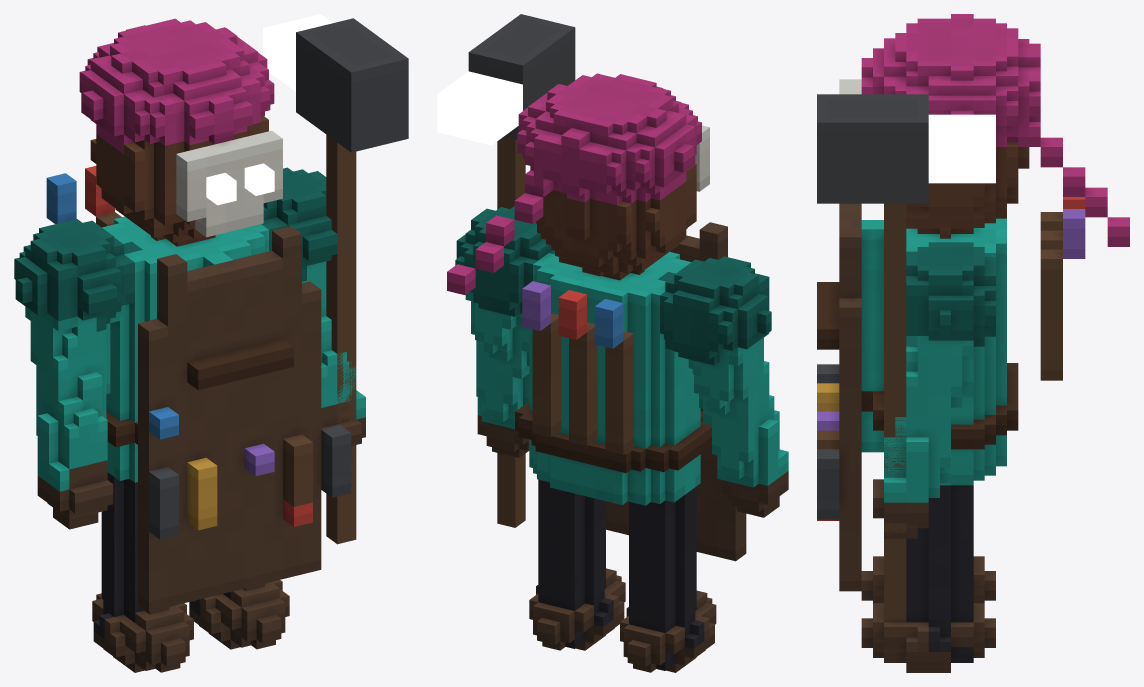
File: u_artificier__tidiane.glb
The picture shows the model from 3 angles, left to right: view 1: azimuth 30°, elevation 25°; view 2: azimuth 150°, elevation 25°; view 3: azimuth 270°, elevation 25°; orthographic projection. The views are drawn at different scales.
Visible parts, largest first — view 1: artificier_body, artificier_weapon, artificier_weaponglow, artificier_glow; view 2: artificier_body, artificier_weapon, artificier_weaponglow; view 3: artificier_body, artificier_weapon, artificier_weaponglow.
Boxes of the visible parts, x1,y1,x2,y2 form: artificier_body: [14, 18, 365, 672]; artificier_weapon: [296, 18, 408, 544]; artificier_weaponglow: [263, 14, 332, 91]; artificier_glow: [206, 163, 274, 205]; artificier_body: [447, 73, 788, 672]; artificier_weapon: [468, 14, 575, 527]; artificier_weaponglow: [437, 71, 522, 145]; artificier_body: [817, 14, 1129, 672]; artificier_weapon: [817, 94, 928, 619]; artificier_weaponglow: [928, 114, 995, 183].
Bounding box in the file's own units: 0.85 × 1.47 × 0.7.
